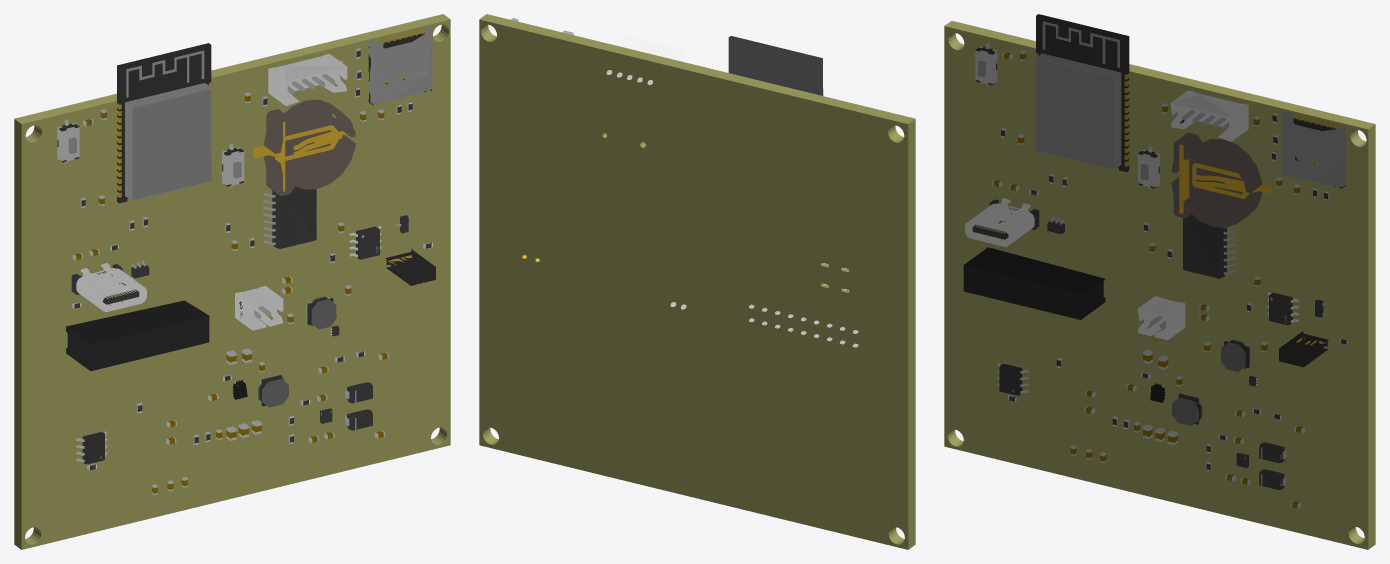
The model's file is OBJ_PCB_Terravision_ia.obj.
3 renders of one model, left to right at view 1: azimuth 30°, elevation 25°; view 2: azimuth 150°, elevation 25°; view 3: azimuth 330°, elevation 25°, orthographic.
Bounding box in the file's own units: 331 × 340 × 53.15.
